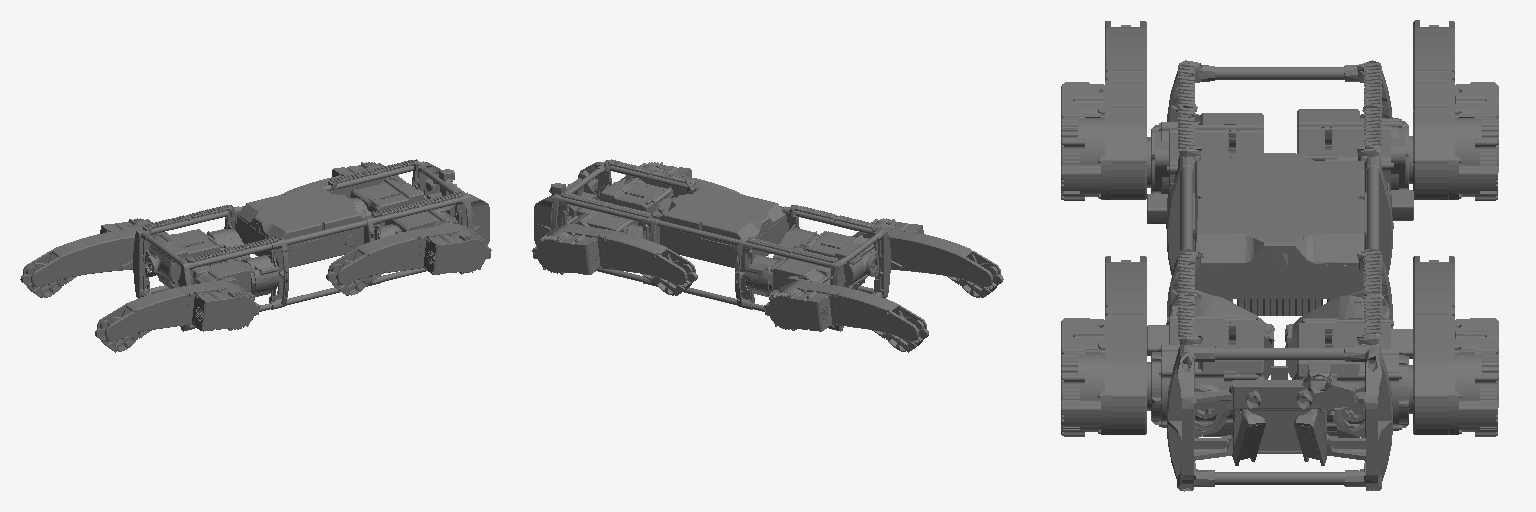
--- Render facts (derived) ---
The picture shows the robot from 3 angles, left to right: view 1: azimuth 30°, elevation 25°; view 2: azimuth 150°, elevation 25°; view 3: azimuth 270°, elevation 25°; orthographic projection.
Robot: vision60 — 31 links, 30 joints (12 revolute, 18 fixed); root link body; default pose: every joint at zero.
Links seen in each view (by area): view 1: body, upper2, upper3, upper1, hip1, hip0, hip3, upper0, hip2, lower1, lower2, lower3; view 2: body, upper0, upper1, upper3, hip3, hip2, hip1, hip0, upper2, lower0, lower3, lower1; view 3: body, upper3, upper2, upper0, upper1, hip2, hip1, hip0, hip3.
Link boxes in pixels (x1,y1,x2,y2): body: [133, 159, 489, 331]; upper2: [328, 224, 491, 284]; upper3: [97, 280, 259, 341]; upper1: [23, 218, 168, 286]; hip1: [148, 229, 219, 288]; hip0: [350, 179, 424, 226]; hip3: [178, 258, 255, 300]; upper0: [281, 162, 405, 197]; hip2: [385, 198, 457, 231]; lower1: [20, 266, 76, 297]; lower2: [326, 264, 383, 295]; lower3: [95, 320, 151, 352]; body: [534, 159, 890, 331]; upper0: [532, 224, 695, 284]; upper1: [764, 280, 926, 341]; upper3: [853, 218, 1000, 286]; hip3: [804, 231, 875, 288]; hip2: [599, 177, 673, 226]; hip1: [768, 258, 845, 299]; hip0: [566, 208, 637, 231]; upper2: [618, 162, 742, 197]; lower0: [640, 264, 697, 295]; lower3: [947, 266, 1003, 297]; lower1: [872, 320, 928, 352]; body: [1166, 60, 1392, 491]; upper3: [1061, 21, 1150, 200]; upper2: [1061, 256, 1146, 436]; upper0: [1413, 256, 1498, 436]; upper1: [1413, 20, 1498, 200]; hip2: [1147, 315, 1263, 436]; hip1: [1297, 109, 1413, 228]; hip0: [1297, 318, 1412, 437]; hip3: [1147, 113, 1263, 223].
Size in the robot's own frame: 1.21 by 0.5398 by 0.2047 metres.
13 mesh visuals loaded from 6 distinct referenced files (6 binary STL).

URDF robot description (vision60):
<?xml version="1.0" encoding="utf-8"?>
<!-- =================================================================================== -->
<!-- |    This document was autogenerated by xacro from vision60_gazebo.urdf.xacro     | -->
<!-- |    EDITING THIS FILE BY HAND IS NOT RECOMMENDED                                 | -->
<!-- =================================================================================== -->
<robot name="vision60">
  <!-- Define materials -->
  <material name="gray">
    <color rgba="0.5 0.5 0.5 1.0"/>
  </material>
  <material name="darkgray">
    <color rgba="0.3 0.3 0.3 1.0"/>
  </material>
  <material name="blue">
    <color rgba="0 0 0.8 1"/>
  </material>
  <material name="black">
    <color rgba="0 0 0 1"/>
  </material>
  <material name="purple">
    <color rgba="0.5 0.0 0.5 1.0"/>
  </material>
  <material name="red">
    <color rgba="0.8 0.0 0.2 1.0"/>
  </material>
  <!-- Body -->
  <link name="body">
    <visual>
      <origin rpy="0 0 0" xyz="0 0 -0.1"/>
      <geometry>
        <mesh filename="package://ghost_description/meshes/Vision60_V3/Frame.STL" scale="1 1 1"/>
      </geometry>
      <material name="gray"/>
    </visual>
    <inertial>
      <mass value="17.9"/>
      <inertia ixx="0.0986" ixy="0" ixz="0" iyy="0.8105" iyz="0" izz="0.8369"/>
    </inertial>
    <!-- Just copy geometry for collision -->
    <collision>
      <origin rpy="0 0 0" xyz="0 0 0"/>
      <geometry>
        <box size="0.83 0.25 0.19"/>
      </geometry>
    </collision>
  </link>
  <gazebo reference="body">
    <material>Gazebo/DarkGray</material>
  </gazebo>
  <!-- Traking frame comes from the realsesne _pose_frame which will share the link with realsense_link
                    (parent) d435i_link -> front_sensor_head -> extrinsics_offset_link -> body (childeren) -->
  <!-- Define front sensor head-->
  <link name="front_sensor_head_link"/>
  <!--zed center -->
  <link name="d435i_link"/>
  <link name="d435i_optical_link"/>
  <joint name="fwd_camera_link_to_zed_center" type="fixed">
    <parent link="front_sensor_head_link"/>
    <child link="d435i_link"/>
    <origin rpy="0 0 0" xyz="-0.031 0.0 0.0456"/>
    <axis xyz="1 0 0"/>
  </joint>
  <joint name="pre_opt_to_d435i_link" type="fixed">
    <parent link="d435i_link"/>
    <child link="d435i_optical_link"/>
    <origin rpy="-1.5707963267948966 0 -1.5707963267948966" xyz="0 0 0"/>
    <axis xyz="1 0 0"/>
  </joint>
  <!--forward left tof  link-->
  <link name="left_tof_optical_link"/>
  <link name="left_tof_link"/>
  <joint name="front_sensor_head_to_left_tof_link" type="fixed">
    <parent link="front_sensor_head_link"/>
    <child link="left_tof_link"/>
    <origin rpy="0 0.5235 -0.349" xyz="0.01493 0.033445  -0.00212"/>
    <axis xyz="1 0 0"/>
  </joint>
  <joint name="pre_opt_to_left_tof_link" type="fixed">
    <parent link="left_tof_link"/>
    <child link="left_tof_optical_link"/>
    <origin rpy="-1.5707963267948966 0 -1.5707963267948966" xyz="0 0 0"/>
    <axis xyz="1 0 0"/>
  </joint>
  <!--forward right tof link-->
  <link name="right_tof_link"/>
  <joint name="fwd_left_tof_link_to_right_tof_link" type="fixed">
    <parent link="front_sensor_head_link"/>
    <child link="right_tof_link"/>
    <!--<origin rpy="-0.34 0.5735 -0.13" xyz="0.01961 0.01132 0.06242"/>-->
    <!--            <origin rpy="-0.418 0.557 -0.123" xyz="0.017 0.012 0.067"/>-->
    <origin rpy="0 0.5235 0.349" xyz="0.01493 -0.033445  -0.00212"/>
    <axis xyz="0 0 1"/>
  </joint>
  <link name="right_tof_optical_link"/>
  <joint name="pre_opt_to_right_tof_link" type="fixed">
    <parent link="right_tof_link"/>
    <child link="right_tof_optical_link"/>
    <origin rpy="-1.5707963267948966 0 -1.5707963267948966" xyz="0 0 0"/>
    <axis xyz="1 0 0"/>
  </joint>
  <!--  Need to connect body to sensorhead  -->
  <joint name="body_to_sensorhead" type="fixed">
    <parent link="body"/>
    <child link="front_sensor_head_link"/>
    <origin rpy="0 0 0" xyz="0.485 0.0 0.0"/>
    <axis xyz="1 0 0"/>
  </joint>
  <!--    Side Right_tof    -->
  <link name="s_right_tof_link"/>
  <link name="s_right_tof_optical_link"/>
  <joint name="body_to_s_right_tof" type="fixed">
    <parent link="body"/>
    <child link="s_right_tof_link"/>
    <origin rpy="3.1415 0.524 -1.57" xyz="-0.082 -0.119 0.061"/>
    <axis xyz="1 0 0"/>
  </joint>
  <joint name="s_right_tof_to_optical_link" type="fixed">
    <parent link="s_right_tof_link"/>
    <child link="s_right_tof_optical_link"/>
    <origin rpy="-1.5707963267948966 0 -1.5707963267948966" xyz="0 0 0"/>
    <axis xyz="1 0 0"/>
  </joint>
  <!--    Side Left_tof    -->
  <link name="s_left_tof_link"/>
  <link name="s_left_tof_optical_link"/>
  <joint name="body_to_s_left_tof" type="fixed">
    <parent link="body"/>
    <child link="s_left_tof_link"/>
    <origin rpy="0 0.524 1.57" xyz="-0.082 0.119 0.061"/>
    <axis xyz="1 0 0"/>
  </joint>
  <joint name="s_left_tof_to_optical_link" type="fixed">
    <parent link="s_left_tof_link"/>
    <child link="s_left_tof_optical_link"/>
    <origin rpy="-1.5707963267948966 0 -1.5707963267948966" xyz="0 0 0"/>
    <axis xyz="1 0 0"/>
  </joint>
  <!--    Rear_tof    -->
  <link name="rear_tof_link"/>
  <link name="rear_tof_optical_link"/>
  <joint name="body_to_rear_tof" type="fixed">
    <parent link="body"/>
    <child link="rear_tof_link"/>
    <origin rpy="0 0.524 3.14" xyz="-0.485 0.0 0.0"/>
    <axis xyz="1 0 0"/>
  </joint>
  <joint name="rear_tof_to_optical_link" type="fixed">
    <parent link="rear_tof_link"/>
    <child link="rear_tof_optical_link"/>
    <origin rpy="-1.5707963267948966 0 -1.5707963267948966" xyz="0 0 0"/>
    <axis xyz="1 0 0"/>
  </joint>
  <!-- this way planner can run unchanged-->
  <link name="t265_pose_frame"/>
  <joint name="body_to_t265" type="fixed">
    <parent link="body"/>
    <child link="t265_pose_frame"/>
    <origin rpy="0 0 0" xyz="0.0 0.0 0.0"/>
    <axis xyz="1 0 0"/>
  </joint>
  <!--    GPS Sensor    -->
  <gazebo>
    <plugin filename="libhector_gazebo_ros_gps.so" name="gps_controller">
      <updateRate>5</updateRate>
      <robotNamespace>/</robotNamespace>
      <bodyName>body</bodyName>
      <frameId>gps_link</frameId>
      <topicName>navsat/fix</topicName>
      <velocityTopicName>navsat/vel</velocityTopicName>
      <referenceLatitude>49.9</referenceLatitude>
      <referenceLongitude>8.9</referenceLongitude>
      <referenceHeading>0</referenceHeading>
      <referenceAltitude>0</referenceAltitude>
      <drift>0.0001 0.0001 0.0001</drift>
    </plugin>
  </gazebo>
  <!--    Magnetometer    -->
  <gazebo>
    <plugin filename="libhector_gazebo_ros_magnetic.so" name="gps_controller">
      <updateRate>5</updateRate>
      <robotNamespace>/</robotNamespace>
      <bodyName>body</bodyName>
      <magnitude>1.0</magnitude>
      <declination>0.0</declination>
      <inclination>60.0</inclination>
      <topicName>magnet/fix</topicName>
      <referenceHeading>0</referenceHeading>
      <drift>0.0001 0.0001 0.0001</drift>
    </plugin>
  </gazebo>
  <!--    IMU Sensor    -->
  <gazebo reference="body">
    <gravity>true</gravity>
    <sensor name="imu_sensor" type="imu">
      <always_on>true</always_on>
      <visualize>true</visualize>
      <plugin filename="libgazebo_ros_imu_sensor.so" name="imu_plugin">
        <robotNamespace>/</robotNamespace>
        <topicName>imu</topicName>
        <bodyName>body</bodyName>
        <updateRateHZ>500.0</updateRateHZ>
        <gaussianNoise>0.0</gaussianNoise>
        <xyzOffset>0 0 0</xyzOffset>
        <rpyOffset>0 0 0</rpyOffset>
        <frameName>body</frameName>
        <initialOrientationAsReference>true</initialOrientationAsReference>
      </plugin>
      <pose>0 0 0 0 0 0</pose>
    </sensor>
  </gazebo>
  <!--    Front SensorHead Stereo    -->
  <gazebo reference="d435i_link">
    <sensor name="front_depth" type="depth">
      <update_rate>30</update_rate>
      <camera>
        <horizontal_fov>1.1</horizontal_fov>
        <image>
          <width>640</width>
          <height>480</height>
          <format>B8G8R8</format>
        </image>
        <clip>
          <near>0.01</near>
          <far>2.5</far>
        </clip>
      </camera>
      <plugin filename="libgazebo_ros_openni_kinect.so" name="front_depth_controller">
        <baseline>0.2</baseline>
        <alwaysOn>true</alwaysOn>
        <updateRate>30</updateRate>
        <cameraName>d435i</cameraName>
        <robotNamespace>/</robotNamespace>
        <imageTopicName>d435i/color/image_raw</imageTopicName>
        <cameraInfoTopicName>d435i/color/camera_info</cameraInfoTopicName>
        <depthImageTopicName>d435i/depth/image_rect_raw</depthImageTopicName>
        <depthImageCameraInfoTopicName>d435i/depth/camera_info
                    </depthImageCameraInfoTopicName>
        <pointCloudTopicName>d435i/depth/points</pointCloudTopicName>
        <frameName>d435i_optical_link</frameName>
        <pointCloudCutoff>0.01</pointCloudCutoff>
        <pointCloudCutoffMax>2.5</pointCloudCutoffMax>
        <distortionK1>0.00000001</distortionK1>
        <distortionK2>0.00000001</distortionK2>
        <distortionK3>0.00000001</distortionK3>
        <distortionT1>0.00000001</distortionT1>
        <distortionT2>0.00000001</distortionT2>
        <CxPrime>0</CxPrime>
        <Cx>0</Cx>
        <Cy>0</Cy>
        <focalLength>0</focalLength>
        <hackBaseline>0</hackBaseline>
      </plugin>
    </sensor>
  </gazebo>
  <gazebo reference="left_tof_link">
    <sensor name="left_tof" type="depth">
      <update_rate>15</update_rate>
      <camera>
        <horizontal_fov>1.08</horizontal_fov>
        <image>
          <width>224</width>
          <height>117</height>
          <format>R8G8B8</format>
        </image>
        <clip>
          <near>0.25</near>
          <far>2.0</far>
        </clip>
      </camera>
      <plugin filename="libgazebo_ros_openni_kinect.so" name="left_tof_controller">
        <baseline>0.2</baseline>
        <alwaysOn>true</alwaysOn>
        <updateRate>15</updateRate>
        <cameraName>left_tof</cameraName>
        <robotNamespace>/</robotNamespace>
        <imageTopicName>left_tof/stream/1/color/image_rect_raw</imageTopicName>
        <cameraInfoTopicName>left_tof/stream/1/color/camera_info</cameraInfoTopicName>
        <depthImageTopicName>left_tof/stream/1/depth/image_rect_raw
                    </depthImageTopicName>
        <depthImageCameraInfoTopicName>left_tof/stream/1/depth/camera_info
                    </depthImageCameraInfoTopicName>
        <pointCloudTopicName>left_tof/stream/1/cloud</pointCloudTopicName>
        <frameName>left_tof_optical_link</frameName>
        <pointCloudCutoff>0.25</pointCloudCutoff>
        <pointCloudCutoffMax>2.0</pointCloudCutoffMax>
        <distortionK1>0.00000001</distortionK1>
        <distortionK2>0.00000001</distortionK2>
        <distortionK3>0.00000001</distortionK3>
        <distortionT1>0.00000001</distortionT1>
        <distortionT2>0.00000001</distortionT2>
        <CxPrime>0</CxPrime>
        <Cx>0</Cx>
        <Cy>0</Cy>
        <focalLength>0</focalLength>
        <hackBaseline>0</hackBaseline>
      </plugin>
    </sensor>
  </gazebo>
  <gazebo reference="right_tof_link">
    <sensor name="right_tof" type="depth">
      <update_rate>15</update_rate>
      <camera>
        <horizontal_fov>1.08</horizontal_fov>
        <image>
          <width>224</width>
          <height>117</height>
          <format>R8G8B8</format>
        </image>
        <clip>
          <near>0.25</near>
          <far>2.0</far>
        </clip>
      </camera>
      <plugin filename="libgazebo_ros_openni_kinect.so" name="right_tof_controller">
        <baseline>0.2</baseline>
        <alwaysOn>true</alwaysOn>
        <updateRate>15</updateRate>
        <cameraName>right_tof</cameraName>
        <robotNamespace>/</robotNamespace>
        <imageTopicName>right_tof/stream/1/color/image_rect_raw</imageTopicName>
        <cameraInfoTopicName>right_tof/stream/1/color/camera_info</cameraInfoTopicName>
        <depthImageTopicName>right_tof/stream/1/depth/image_rect_raw
                    </depthImageTopicName>
        <depthImageCameraInfoTopicName>right_tof/stream/1/depth/camera_info
                    </depthImageCameraInfoTopicName>
        <pointCloudTopicName>right_tof/stream/1/cloud</pointCloudTopicName>
        <frameName>right_tof_optical_link</frameName>
        <pointCloudCutoff>0.25</pointCloudCutoff>
        <pointCloudCutoffMax>2.0</pointCloudCutoffMax>
        <distortionK1>0.00000001</distortionK1>
        <distortionK2>0.00000001</distortionK2>
        <distortionK3>0.00000001</distortionK3>
        <distortionT1>0.00000001</distortionT1>
        <distortionT2>0.00000001</distortionT2>
        <CxPrime>0</CxPrime>
        <Cx>0</Cx>
        <Cy>0</Cy>
        <focalLength>0</focalLength>
        <hackBaseline>0</hackBaseline>
      </plugin>
    </sensor>
  </gazebo>
  <gazebo reference="s_right_tof_link">
    <sensor name="s_right_tof" type="depth">
      <update_rate>15</update_rate>
      <camera>
        <horizontal_fov>1.08</horizontal_fov>
        <image>
          <width>224</width>
          <height>117</height>
          <format>R8G8B8</format>
        </image>
        <clip>
          <near>0.25</near>
          <far>2.0</far>
        </clip>
      </camera>
      <plugin filename="libgazebo_ros_openni_kinect.so" name="s_right_tof_controller">
        <baseline>0.2</baseline>
        <alwaysOn>true</alwaysOn>
        <updateRate>15</updateRate>
        <cameraName>s_right_tof</cameraName>
        <robotNamespace>/</robotNamespace>
        <imageTopicName>s_right_tof/stream/1/color/image_rect_raw</imageTopicName>
        <cameraInfoTopicName>s_right_tof/stream/1/color/camera_info</cameraInfoTopicName>
        <depthImageTopicName>s_right_tof/stream/1/depth/image_rect_raw
                    </depthImageTopicName>
        <depthImageCameraInfoTopicName>s_right_tof/stream/1/depth/camera_info
                    </depthImageCameraInfoTopicName>
        <pointCloudTopicName>s_right_tof/stream/1/cloud</pointCloudTopicName>
        <frameName>s_right_tof_optical_link</frameName>
        <pointCloudCutoff>0.25</pointCloudCutoff>
        <pointCloudCutoffMax>2.0</pointCloudCutoffMax>
        <distortionK1>0.00000001</distortionK1>
        <distortionK2>0.00000001</distortionK2>
        <distortionK3>0.00000001</distortionK3>
        <distortionT1>0.00000001</distortionT1>
        <distortionT2>0.00000001</distortionT2>
        <CxPrime>0</CxPrime>
        <Cx>0</Cx>
        <Cy>0</Cy>
        <focalLength>0</focalLength>
        <hackBaseline>0</hackBaseline>
      </plugin>
    </sensor>
  </gazebo>
  <gazebo reference="s_left_tof_link">
    <sensor name="s_left_tof" type="depth">
      <update_rate>15</update_rate>
      <camera>
        <horizontal_fov>1.08</horizontal_fov>
        <image>
          <width>224</width>
          <height>117</height>
          <format>R8G8B8</format>
        </image>
        <clip>
          <near>0.25</near>
          <far>2.0</far>
        </clip>
      </camera>
      <plugin filename="libgazebo_ros_openni_kinect.so" name="s_left_tof_controller">
        <baseline>0.2</baseline>
        <alwaysOn>true</alwaysOn>
        <updateRate>15</updateRate>
        <cameraName>s_left_tof</cameraName>
        <robotNamespace>/</robotNamespace>
        <imageTopicName>s_left_tof/stream/1/color/image_rect_raw</imageTopicName>
        <cameraInfoTopicName>s_left_tof/stream/1/color/camera_info</cameraInfoTopicName>
        <depthImageTopicName>s_left_tof/stream/1/depth/image_rect_raw
                    </depthImageTopicName>
        <depthImageCameraInfoTopicName>s_left_tof/stream/1/depth/camera_info
                    </depthImageCameraInfoTopicName>
        <pointCloudTopicName>s_left_tof/stream/1/cloud</pointCloudTopicName>
        <frameName>s_left_tof_optical_link</frameName>
        <pointCloudCutoff>0.25</pointCloudCutoff>
        <pointCloudCutoffMax>2.0</pointCloudCutoffMax>
        <distortionK1>0.00000001</distortionK1>
        <distortionK2>0.00000001</distortionK2>
        <distortionK3>0.00000001</distortionK3>
        <distortionT1>0.00000001</distortionT1>
        <distortionT2>0.00000001</distortionT2>
        <CxPrime>0</CxPrime>
        <Cx>0</Cx>
        <Cy>0</Cy>
        <focalLength>0</focalLength>
        <hackBaseline>0</hackBaseline>
      </plugin>
    </sensor>
  </gazebo>
  <gazebo reference="rear_tof_link">
    <sensor name="rear_tof" type="depth">
      <update_rate>15</update_rate>
      <camera>
        <horizontal_fov>1.08</horizontal_fov>
        <image>
          <width>224</width>
          <height>117</height>
          <format>R8G8B8</format>
        </image>
        <clip>
          <near>0.25</near>
          <far>2.0</far>
        </clip>
      </camera>
      <plugin filename="libgazebo_ros_openni_kinect.so" name="rear_tof_controller">
        <baseline>0.2</baseline>
        <alwaysOn>true</alwaysOn>
        <updateRate>15</updateRate>
        <cameraName>rear_tof</cameraName>
        <robotNamespace>/</robotNamespace>
        <imageTopicName>rear_tof/stream/1/color/image_rect_raw</imageTopicName>
        <cameraInfoTopicName>rear_tof/stream/1/color/camera_info</cameraInfoTopicName>
        <depthImageTopicName>rear_tof/stream/1/depth/image_rect_raw
                    </depthImageTopicName>
        <depthImageCameraInfoTopicName>rear_tof/stream/1/depth/camera_info
                    </depthImageCameraInfoTopicName>
        <pointCloudTopicName>rear_tof/stream/1/cloud</pointCloudTopicName>
        <frameName>rear_tof_optical_link</frameName>
        <pointCloudCutoff>0.25</pointCloudCutoff>
        <pointCloudCutoffMax>2.0</pointCloudCutoffMax>
        <distortionK1>0.00000001</distortionK1>
        <distortionK2>0.00000001</distortionK2>
        <distortionK3>0.00000001</distortionK3>
        <distortionT1>0.00000001</distortionT1>
        <distortionT2>0.00000001</distortionT2>
        <CxPrime>0</CxPrime>
        <Cx>0</Cx>
        <Cy>0</Cy>
        <focalLength>0</focalLength>
        <hackBaseline>0</hackBaseline>
      </plugin>
    </sensor>
  </gazebo>
  <!-- Hip motor -->
  <link name="hip0">
    <visual>
      <origin rpy="0 -3.14159265359 0" xyz="0.05 -0.073 0"/>
      <geometry>
        <mesh filename="package://ghost_description/meshes/Vision60_V3/Hip_Pod_Assembly.stl" scale="1 1 1"/>
      </geometry>
      <material name="gray"/>
    </visual>
    <collision>
      <origin rpy="1.5707963268 0 0" xyz="-0.01 -0.005 0"/>
      <geometry>
        <box size="0.15 0.09 0.15"/>
      </geometry>
    </collision>
    <inertial>
      <mass value="1.975"/>
      <inertia ixx="0.00891458" ixy="0" ixz="0" iyy="0.0100573" iyz="0" izz="0.01533698"/>
    </inertial>
  </link>
  <gazebo reference="hip0">
    <material>Gazebo/DarkGray</material>
  </gazebo>
  <!-- Abduction joint. Joint names are: 8 9 10 11 -->
  <joint name="8" type="revolute">
    <parent link="body"/>
    <child link="hip0"/>
    <axis xyz="1 0 0"/>
    <origin xyz="0.34385 0.092865 0"/>
    <limit effort="375" lower="-0.43" upper="0.43" velocity="8.6"/>
    <dynamics damping="0.0" friction="0.0"/>
  </joint>
  <!-- Transmission elements required for Gazebo -->
  <transmission name="transmission_8">
    <type>transmission_interface/SimpleTransmission</type>
    <joint name="8">
      <hardwareInterface>hardware_interface/EffortJointInterface</hardwareInterface>
    </joint>
    <actuator name="motor_8">
      <hardwareInterface>EffortJointInterface</hardwareInterface>
      <mechanicalReduction>1</mechanicalReduction>
    </actuator>
  </transmission>
  <!-- Upper leg -->
  <link name="upper0">
    <visual>
      <origin rpy="3.14 0.1179843 0" xyz="0 0 0"/>
      <geometry>
        <mesh filename="package://ghost_description/meshes/Vision60_V3/Leg_Assembly.stl" scale="0.001 0.001 0.001"/>
      </geometry>
      <material name="gray"/>
    </visual>
    <collision>
      <origin rpy="0 0 0" xyz="-0.17 0.0 0"/>
      <geometry>
        <box size="0.34 0.055 0.075"/>
      </geometry>
    </collision>
    <inertial>
      <mass value="2.525"/>
      <inertia ixx="0.0003125" ixy="0" ixz="0" iyy="0.0040625" iyz="0" izz="0.0040625"/>
    </inertial>
  </link>
  <gazebo reference="upper0">
    <material>Gazebo/DarkGray</material>
  </gazebo>
  <!-- Hip joint. (Motor to upper leg). Joint names are: 0 2 4 6 -->
  <joint name="0" type="revolute">
    <parent link="hip0"/>
    <child link="upper0"/>
    <axis xyz="0 -1 0"/>
    <origin xyz="0 0.0975 0"/>
    <!--  rpy="0 -0.3 0" -->
    <limit effort="87.5" lower="-6.28318530718" upper="6.28318530718" velocity="30"/>
    <dynamics damping="0.0" friction="0.0"/>
  </joint>
  <!-- Transmission elements required for Gazebo -->
  <transmission name="transmission_0">
    <type>transmission_interface/SimpleTransmission</type>
    <joint name="0">
      <hardwareInterface>hardware_interface/EffortJointInterface</hardwareInterface>
    </joint>
    <actuator name="motor_0">
      <hardwareInterface>EffortJointInterface</hardwareInterface>
      <mechanicalReduction>1</mechanicalReduction>
    </actuator>
  </transmission>
  <!-- Lower leg -->
  <link name="lower0">
    <visual>
      <origin rpy="0 -0.3874631  0" xyz="0 0 0"/>
      <geometry>
        <mesh filename="package://ghost_description/meshes/Vision60_V3/Lower_Leg_Assembly.stl" scale="0.001 0.001 0.001"/>
      </geometry>
      <material name="gray"/>
    </visual>
    <collision>
      <origin rpy="0 1.5707963268 0" xyz="0.17035 0 0"/>
      <geometry>
        <cylinder length="0.3407" radius="0.02"/>
      </geometry>
    </collision>
    <inertial>
      <mass value="0.375"/>
      <inertia ixx="0.00131075" ixy="0" ixz="0" iyy="0.00131075" iyz="0" izz="0.0001"/>
    </inertial>
  </link>
  <gazebo reference="lower0">
    <material>Gazebo/DarkGray</material>
  </gazebo>
  <!-- Knee joint. Joint names are: 1 3 5 7 -->
  <joint name="1" type="revolute">
    <parent link="upper0"/>
    <child link="lower0"/>
    <axis xyz="0 1 0"/>
    <origin xyz="-0.34 0 0"/>
    <!--rpy="0 0.5 0"-->
    <limit effort="87.5" lower="0" upper="3.14159265359" velocity="30"/>
    <dynamics damping="0.0" friction="0.0"/>
  </joint>
  <!-- Transmission elements required for Gazebo -->
  <transmission name="transmission_1">
    <type>transmission_interface/SimpleTransmission</type>
    <joint name="1">
      <hardwareInterface>hardware_interface/EffortJointInterface</hardwareInterface>
    </joint>
    <actuator name="motor_1">
      <hardwareInterface>EffortJointInterface</hardwareInterface>
      <mechanicalReduction>1</mechanicalReduction>
    </actuator>
  </transmission>
  <!-- Toe -->
  <link name="toe0">
    <!--            <contact>-->
    <!--                <friction_anchor/>-->
    <!--                <stiffness value="${toeStiffness}"/>-->
    <!--                <damping value="${toeDamping}"/>-->
    <!--                <spinning_friction value="${toeSpinningFriction}"/>-->
    <!--                <lateral_friction value="${toeLateralFriction}"/>-->
    <!--            </contact>-->
    <visual>
      <origin rpy="0 0 0" xyz="0 0 0"/>
      <geometry>
        <!--                     <box size="${toeRadius}*2 ${toeRadius}*2 ${toeRadius}*2"/>-->
        <sphere radius="0.001"/>
        <!--                    <sphere radius="${toeRadius}"/>-->
      </geometry>
      <material name="darkgray"/>
    </visual>
    <collision>
      <origin rpy="0 0 0" xyz="0 0 0"/>
      <geometry>
        <!--                    <box size="${toeRadius}*2 ${toeRadius}*2 ${toeRadius}*2"/>-->
        <sphere radius="0.0325"/>
      </geometry>
      <surface>
        <friction>
          <torsional>
            <coefficient>100000.0</coefficient>
            <surface_radius>100000</surface_radius>
            <use_patch_radius>false</use_patch_radius>
          </torsional>
          <ode>
            <mu>10000</mu>
            <mu2>10000</mu2>
          </ode>
        </friction>
        <contact>
          <ode>
            <kp>300000.0</kp>
            <kd>10000.0</kd>
          </ode>
        </contact>
      </surface>
    </collision>
    <inertial>
      <mass value="0.15"/>
      <inertia ixx="0.000025" ixy="0" ixz="0" iyy="0.000025" iyz="0" izz="0.000025"/>
    </inertial>
  </link>
  <gazebo reference="toe0">
    <material>Gazebo/DarkGray</material>
    <collision>
      <surface>
        <bounce>
          <restitution_coefficient>0</restitution_coefficient>
          <threshold>1e+06</threshold>
        </bounce>
        <friction>
          <torsional>
            <coefficient>1.0</coefficient>
          </torsional>
          <ode>
            <mu>500.0</mu>
            <mu2>50000.0</mu2>
          </ode>
          <bullet>
            <rolling_friction>1.0</rolling_friction>
            <friction2>50000.0</friction2>
          </bullet>
        </friction>
        <contact>
          <bullet>
            <kp>300000.0</kp>
            <kd>10000.0</kd>
          </bullet>
          <ode>
            <kp>300000.0</kp>
            <kd>10000.0</kd>
          </ode>
        </contact>
      </surface>
    </collision>
  </gazebo>
  <joint name="jtoe0" type="fixed">
    <parent link="lower0"/>
    <child link="toe0"/>
    <origin xyz="0.3407 0 -0.0"/>
    <dynamics damping="0.0" friction="0.0"/>
  </joint>
  <!-- Hip motor -->
  <link name="hip1">
    <visual>
      <origin rpy="0 0 0" xyz="-0.05 -0.073 0"/>
      <geometry>
        <mesh filename="package://ghost_description/meshes/Vision60_V3/Hip_Pod_Assembly.stl" scale="1 1 1"/>
      </geometry>
      <material name="gray"/>
    </visual>
    <collision>
      <origin rpy="1.5707963268 0 0" xyz="0.01 -0.005 0"/>
      <geometry>
        <box size="0.15 0.09 0.15"/>
      </geometry>
    </collision>
    <inertial>
      <mass value="1.975"/>
      <inertia ixx="0.00891458" ixy="0" ixz="0" iyy="0.0100573" iyz="0" izz="0.01533698"/>
    </inertial>
  </link>
  <gazebo reference="hip1">
    <material>Gazebo/DarkGray</material>
  </gazebo>
  <!-- Abduction joint. Joint names are: 8 9 10 11 -->
  <joint name="9" type="revolute">
    <parent link="body"/>
    <child link="hip1"/>
    <axis xyz="1 0 0"/>
    <origin xyz="-0.34385 0.092865 0"/>
    <limit effort="375" lower="-0.43" upper="0.43" velocity="8.6"/>
    <dynamics damping="0.0" friction="0.0"/>
  </joint>
  <!-- Transmission elements required for Gazebo -->
  <transmission name="transmission_9">
    <type>transmission_interface/SimpleTransmission</type>
    <joint name="9">
      <hardwareInterface>hardware_interface/EffortJointInterface</hardwareInterface>
    </joint>
    <actuator name="motor_9">
      <hardwareInterface>EffortJointInterface</hardwareInterface>
      <mechanicalReduction>1</mechanicalReduction>
    </actuator>
  </transmission>
  <!-- Upper leg -->
  <link name="upper1">
    <visual>
      <origin rpy="3.14 0.1179843 0" xyz="0 0 0"/>
      <geometry>
        <mesh filename="package://ghost_description/meshes/Vision60_V3/Leg_Assembly.stl" scale="0.001 0.001 0.001"/>
      </geometry>
      <material name="gray"/>
    </visual>
    <collision>
      <origin rpy="0 0 0" xyz="-0.17 0.0 0"/>
      <geometry>
        <box size="0.34 0.055 0.075"/>
      </geometry>
    </collision>
    <inertial>
      <mass value="2.525"/>
      <inertia ixx="0.0003125" ixy="0" ixz="0" iyy="0.0040625" iyz="0" izz="0.0040625"/>
    </inertial>
  </link>
  <gazebo reference="upper1">
    <material>Gazebo/DarkGray</material>
  </gazebo>
  <!-- Hip joint. (Motor to upper leg). Joint names are: 0 2 4 6 -->
  <joint name="2" type="revolute">
    <parent link="hip1"/>
    <child link="upper1"/>
    <axis xyz="0 -1 0"/>
    <origin xyz="0 0.0975 0"/>
    <!--  rpy="0 -0.3 0" -->
    <limit effort="87.5" lower="-6.28318530718" upper="6.28318530718" velocity="30"/>
    <dynamics damping="0.0" friction="0.0"/>
  </joint>
  <!-- Transmission elements required for Gazebo -->
  <transmission name="transmission_2">
    <type>transmission_interface/SimpleTransmission</type>
    <joint name="2">
      <hardwareInterface>hardware_interface/EffortJointInterface</hardwareInterface>
    </joint>
    <actuator name="motor_2">
      <hardwareInterface>EffortJointInterface</hardwareInterface>
      <mechanicalReduction>1</mechanicalReduction>
    </actuator>
  </transmission>
  <!-- Lower leg -->
  <link name="lower1">
    <visual>
      <origin rpy="0 -0.3874631  0" xyz="0 0 0"/>
      <geometry>
        <mesh filename="package://ghost_description/meshes/Vision60_V3/Lower_Leg_Assembly.stl" scale="0.001 0.001 0.001"/>
      </geometry>
      <material name="gray"/>
    </visual>
    <collision>
      <origin rpy="0 1.5707963268 0" xyz="0.17035 0 0"/>
      <geometry>
        <cylinder length="0.3407" radius="0.02"/>
      </geometry>
    </collision>
    <inertial>
      <mass value="0.375"/>
      <inertia ixx="0.00131075" ixy="0" ixz="0" iyy="0.00131075" iyz="0" izz="0.0001"/>
    </inertial>
  </link>
  <gazebo reference="lower1">
    <material>Gazebo/DarkGray</material>
  </gazebo>
  <!-- Knee joint. Joint names are: 1 3 5 7 -->
  <joint name="3" type="revolute">
    <parent link="upper1"/>
    <child link="lower1"/>
    <axis xyz="0 1 0"/>
    <origin xyz="-0.34 0 0"/>
    <!--rpy="0 0.5 0"-->
    <limit effort="87.5" lower="0" upper="3.14159265359" velocity="30"/>
    <dynamics damping="0.0" friction="0.0"/>
  </joint>
  <!-- Transmission elements required for Gazebo -->
  <transmission name="transmission_3">
    <type>transmission_interface/SimpleTransmission</type>
    <joint name="3">
      <hardwareInterface>hardware_interface/EffortJointInterface</hardwareInterface>
    </joint>
    <actuator name="motor_3">
      <hardwareInterface>EffortJointInterface</hardwareInterface>
      <mechanicalReduction>1</mechanicalReduction>
    </actuator>
  </transmission>
  <!-- Toe -->
  <link name="toe1">
    <!--            <contact>-->
    <!--                <friction_anchor/>-->
    <!--                <stiffness value="${toeStiffness}"/>-->
    <!--                <damping value="${toeDamping}"/>-->
    <!--                <spinning_friction value="${toeSpinningFriction}"/>-->
    <!--                <lateral_friction value="${toeLateralFriction}"/>-->
    <!--            </contact>-->
    <visual>
      <origin rpy="0 0 0" xyz="0 0 0"/>
      <geometry>
        <!--                     <box size="${toeRadius}*2 ${toeRadius}*2 ${toeRadius}*2"/>-->
        <sphere radius="0.001"/>
        <!--                    <sphere radius="${toeRadius}"/>-->
      </geometry>
      <material name="darkgray"/>
    </visual>
    <collision>
      <origin rpy="0 0 0" xyz="0 0 0"/>
      <geometry>
        <!--                    <box size="${toeRadius}*2 ${toeRadius}*2 ${toeRadius}*2"/>-->
        <sphere radius="0.0325"/>
      </geometry>
      <surface>
        <friction>
          <torsional>
            <coefficient>100000.0</coefficient>
            <surface_radius>100000</surface_radius>
            <use_patch_radius>false</use_patch_radius>
          </torsional>
          <ode>
            <mu>10000</mu>
            <mu2>10000</mu2>
          </ode>
        </friction>
        <contact>
          <ode>
            <kp>300000.0</kp>
            <kd>10000.0</kd>
          </ode>
        </contact>
      </surface>
    </collision>
    <inertial>
      <mass value="0.15"/>
      <inertia ixx="0.000025" ixy="0" ixz="0" iyy="0.000025" iyz="0" izz="0.000025"/>
    </inertial>
  </link>
  <gazebo reference="toe1">
    <material>Gazebo/DarkGray</material>
    <collision>
      <surface>
        <bounce>
          <restitution_coefficient>0</restitution_coefficient>
          <threshold>1e+06</threshold>
        </bounce>
        <friction>
          <torsional>
            <coefficient>1.0</coefficient>
          </torsional>
          <ode>
            <mu>500.0</mu>
            <mu2>50000.0</mu2>
          </ode>
          <bullet>
            <rolling_friction>1.0</rolling_friction>
            <friction2>50000.0</friction2>
          </bullet>
        </friction>
        <contact>
          <bullet>
            <kp>300000.0</kp>
            <kd>10000.0</kd>
          </bullet>
          <ode>
            <kp>300000.0</kp>
            <kd>10000.0</kd>
          </ode>
        </contact>
      </surface>
    </collision>
  </gazebo>
  <joint name="jtoe1" type="fixed">
    <parent link="lower1"/>
    <child link="toe1"/>
    <origin xyz="0.3407 0 -0.0"/>
    <dynamics damping="0.0" friction="0.0"/>
  </joint>
  <!-- Hip motor -->
  <link name="hip2">
    <visual>
      <origin rpy="3.14159265359 3.14159265359 0" xyz="0.05 0 -0.05"/>
      <geometry>
        <mesh filename="package://ghost_description/meshes/Vision60_V3/Hip_Pod_Assembly_Mirrored.stl" scale="1 1 1"/>
      </geometry>
      <material name="gray"/>
    </visual>
    <collision>
      <origin rpy="1.5707963268 0 0" xyz="-0.01 0.005 0"/>
      <geometry>
        <box size="0.15 0.09 0.15"/>
      </geometry>
    </collision>
    <inertial>
      <mass value="1.975"/>
      <inertia ixx="0.00891458" ixy="0" ixz="0" iyy="0.0100573" iyz="0" izz="0.01533698"/>
    </inertial>
  </link>
  <gazebo reference="hip2">
    <material>Gazebo/DarkGray</material>
  </gazebo>
  <!-- Abduction joint. Joint names are: 8 9 10 11 -->
  <joint name="10" type="revolute">
    <parent link="body"/>
    <child link="hip2"/>
    <axis xyz="1 0 0"/>
    <origin xyz="0.34385 -0.092865 0"/>
    <limit effort="375" lower="-0.43" upper="0.43" velocity="8.6"/>
    <dynamics damping="0.0" friction="0.0"/>
  </joint>
  <!-- Transmission elements required for Gazebo -->
  <transmission name="transmission_10">
    <type>transmission_interface/SimpleTransmission</type>
    <joint name="10">
      <hardwareInterface>hardware_interface/EffortJointInterface</hardwareInterface>
    </joint>
    <actuator name="motor_10">
      <hardwareInterface>EffortJointInterface</hardwareInterface>
      <mechanicalReduction>1</mechanicalReduction>
    </actuator>
  </transmission>
  <!-- Upper leg -->
  <link name="upper2">
    <visual>
      <!-- Right-->
      <origin rpy="0 0.1179843 0" xyz="0 0 0"/>
      <geometry>
        <mesh filename="package://ghost_description/meshes/Vision60_V3/Leg_Assembly_Mirrored.stl" scale="0.001 0.001 0.001"/>
      </geometry>
      <material name="gray"/>
    </visual>
    <collision>
      <origin rpy="0 0 0" xyz="-0.17 -0.0 0"/>
      <geometry>
        <box size="0.34 0.055 0.075"/>
      </geometry>
    </collision>
    <inertial>
      <mass value="2.525"/>
      <inertia ixx="0.0003125" ixy="0" ixz="0" iyy="0.0040625" iyz="0" izz="0.0040625"/>
    </inertial>
  </link>
  <gazebo reference="upper2">
    <material>Gazebo/DarkGray</material>
  </gazebo>
  <!-- Hip joint. (Motor to upper leg). Joint names are: 0 2 4 6 -->
  <joint name="4" type="revolute">
    <parent link="hip2"/>
    <child link="upper2"/>
    <axis xyz="0 -1 0"/>
    <origin xyz="0 -0.0975 0"/>
    <!--  rpy="0 -0.3 0" -->
    <limit effort="87.5" lower="-6.28318530718" upper="6.28318530718" velocity="30"/>
    <dynamics damping="0.0" friction="0.0"/>
  </joint>
  <!-- Transmission elements required for Gazebo -->
  <transmission name="transmission_4">
    <type>transmission_interface/SimpleTransmission</type>
    <joint name="4">
      <hardwareInterface>hardware_interface/EffortJointInterface</hardwareInterface>
    </joint>
    <actuator name="motor_4">
      <hardwareInterface>EffortJointInterface</hardwareInterface>
      <mechanicalReduction>1</mechanicalReduction>
    </actuator>
  </transmission>
  <!-- Lower leg -->
  <link name="lower2">
    <visual>
      <origin rpy="0 -0.3874631  0" xyz="0 0 0"/>
      <geometry>
        <mesh filename="package://ghost_description/meshes/Vision60_V3/Lower_Leg_Assembly.stl" scale="0.001 0.001 0.001"/>
      </geometry>
      <material name="gray"/>
    </visual>
    <collision>
      <origin rpy="0 1.5707963268 0" xyz="0.17035 0 0"/>
      <geometry>
        <cylinder length="0.3407" radius="0.02"/>
      </geometry>
    </collision>
    <inertial>
      <mass value="0.375"/>
      <inertia ixx="0.00131075" ixy="0" ixz="0" iyy="0.00131075" iyz="0" izz="0.0001"/>
    </inertial>
  </link>
  <gazebo reference="lower2">
    <material>Gazebo/DarkGray</material>
  </gazebo>
  <!-- Knee joint. Joint names are: 1 3 5 7 -->
  <joint name="5" type="revolute">
    <parent link="upper2"/>
    <child link="lower2"/>
    <axis xyz="0 1 0"/>
    <origin xyz="-0.34 0 0"/>
    <!--rpy="0 0.5 0"-->
    <limit effort="87.5" lower="0" upper="3.14159265359" velocity="30"/>
    <dynamics damping="0.0" friction="0.0"/>
  </joint>
  <!-- Transmission elements required for Gazebo -->
  <transmission name="transmission_5">
    <type>transmission_interface/SimpleTransmission</type>
    <joint name="5">
      <hardwareInterface>hardware_interface/EffortJointInterface</hardwareInterface>
    </joint>
    <actuator name="motor_5">
      <hardwareInterface>EffortJointInterface</hardwareInterface>
      <mechanicalReduction>1</mechanicalReduction>
    </actuator>
  </transmission>
  <!-- Toe -->
  <link name="toe2">
    <!--            <contact>-->
    <!--                <friction_anchor/>-->
    <!--                <stiffness value="${toeStiffness}"/>-->
    <!--                <damping value="${toeDamping}"/>-->
    <!--                <spinning_friction value="${toeSpinningFriction}"/>-->
    <!--                <lateral_friction value="${toeLateralFriction}"/>-->
    <!--            </contact>-->
    <visual>
      <origin rpy="0 0 0" xyz="0 0 0"/>
      <geometry>
        <!--                     <box size="${toeRadius}*2 ${toeRadius}*2 ${toeRadius}*2"/>-->
        <sphere radius="0.001"/>
        <!--                    <sphere radius="${toeRadius}"/>-->
      </geometry>
      <material name="darkgray"/>
    </visual>
    <collision>
      <origin rpy="0 0 0" xyz="0 0 0"/>
      <geometry>
        <!--                    <box size="${toeRadius}*2 ${toeRadius}*2 ${toeRadius}*2"/>-->
        <sphere radius="0.0325"/>
      </geometry>
      <surface>
        <friction>
          <torsional>
            <coefficient>100000.0</coefficient>
            <surface_radius>100000</surface_radius>
            <use_patch_radius>false</use_patch_radius>
          </torsional>
          <ode>
            <mu>10000</mu>
            <mu2>10000</mu2>
          </ode>
        </friction>
        <contact>
          <ode>
            <kp>300000.0</kp>
            <kd>10000.0</kd>
          </ode>
        </contact>
      </surface>
    </collision>
    <inertial>
      <mass value="0.15"/>
      <inertia ixx="0.000025" ixy="0" ixz="0" iyy="0.000025" iyz="0" izz="0.000025"/>
    </inertial>
  </link>
  <gazebo reference="toe2">
    <material>Gazebo/DarkGray</material>
    <collision>
      <surface>
        <bounce>
          <restitution_coefficient>0</restitution_coefficient>
          <threshold>1e+06</threshold>
        </bounce>
        <friction>
          <torsional>
            <coefficient>1.0</coefficient>
          </torsional>
          <ode>
            <mu>500.0</mu>
            <mu2>50000.0</mu2>
          </ode>
          <bullet>
            <rolling_friction>1.0</rolling_friction>
            <friction2>50000.0</friction2>
          </bullet>
        </friction>
        <contact>
          <bullet>
            <kp>300000.0</kp>
            <kd>10000.0</kd>
          </bullet>
          <ode>
            <kp>300000.0</kp>
            <kd>10000.0</kd>
          </ode>
        </contact>
      </surface>
    </collision>
  </gazebo>
  <joint name="jtoe2" type="fixed">
    <parent link="lower2"/>
    <child link="toe2"/>
    <origin xyz="0.3407 0 -0.0"/>
    <dynamics damping="0.0" friction="0.0"/>
  </joint>
  <!-- Hip motor -->
  <link name="hip3">
    <visual>
      <origin rpy="3.14159265359 0 0" xyz="-0.05 0.0 0.05"/>
      <geometry>
        <mesh filename="package://ghost_description/meshes/Vision60_V3/Hip_Pod_Assembly_Mirrored.stl" scale="1 1 1"/>
      </geometry>
      <material name="gray"/>
    </visual>
    <collision>
      <origin rpy="1.5707963268 0 0" xyz="0.01 0.005 0"/>
      <geometry>
        <box size="0.15 0.09 0.15"/>
      </geometry>
    </collision>
    <inertial>
      <mass value="1.975"/>
      <inertia ixx="0.00891458" ixy="0" ixz="0" iyy="0.0100573" iyz="0" izz="0.01533698"/>
    </inertial>
  </link>
  <gazebo reference="hip3">
    <material>Gazebo/DarkGray</material>
  </gazebo>
  <!-- Abduction joint. Joint names are: 8 9 10 11 -->
  <joint name="11" type="revolute">
    <parent link="body"/>
    <child link="hip3"/>
    <axis xyz="1 0 0"/>
    <origin xyz="-0.34385 -0.092865 0"/>
    <limit effort="375" lower="-0.43" upper="0.43" velocity="8.6"/>
    <dynamics damping="0.0" friction="0.0"/>
  </joint>
  <!-- Transmission elements required for Gazebo -->
  <transmission name="transmission_11">
    <type>transmission_interface/SimpleTransmission</type>
    <joint name="11">
      <hardwareInterface>hardware_interface/EffortJointInterface</hardwareInterface>
    </joint>
    <actuator name="motor_11">
      <hardwareInterface>EffortJointInterface</hardwareInterface>
      <mechanicalReduction>1</mechanicalReduction>
    </actuator>
  </transmission>
  <!-- Upper leg -->
  <link name="upper3">
    <visual>
      <!-- Right-->
      <origin rpy="0 0.1179843 0" xyz="0 0 0"/>
      <geometry>
        <mesh filename="package://ghost_description/meshes/Vision60_V3/Leg_Assembly_Mirrored.stl" scale="0.001 0.001 0.001"/>
      </geometry>
      <material name="gray"/>
    </visual>
    <collision>
      <origin rpy="0 0 0" xyz="-0.17 -0.0 0"/>
      <geometry>
        <box size="0.34 0.055 0.075"/>
      </geometry>
    </collision>
    <inertial>
      <mass value="2.525"/>
      <inertia ixx="0.0003125" ixy="0" ixz="0" iyy="0.0040625" iyz="0" izz="0.0040625"/>
    </inertial>
  </link>
  <gazebo reference="upper3">
    <material>Gazebo/DarkGray</material>
  </gazebo>
  <!-- Hip joint. (Motor to upper leg). Joint names are: 0 2 4 6 -->
  <joint name="6" type="revolute">
    <parent link="hip3"/>
    <child link="upper3"/>
    <axis xyz="0 -1 0"/>
    <origin xyz="0 -0.0975 0"/>
    <!--  rpy="0 -0.3 0" -->
    <limit effort="87.5" lower="-6.28318530718" upper="6.28318530718" velocity="30"/>
    <dynamics damping="0.0" friction="0.0"/>
  </joint>
  <!-- Transmission elements required for Gazebo -->
  <transmission name="transmission_6">
    <type>transmission_interface/SimpleTransmission</type>
    <joint name="6">
      <hardwareInterface>hardware_interface/EffortJointInterface</hardwareInterface>
    </joint>
    <actuator name="motor_6">
      <hardwareInterface>EffortJointInterface</hardwareInterface>
      <mechanicalReduction>1</mechanicalReduction>
    </actuator>
  </transmission>
  <!-- Lower leg -->
  <link name="lower3">
    <visual>
      <origin rpy="0 -0.3874631  0" xyz="0 0 0"/>
      <geometry>
        <mesh filename="package://ghost_description/meshes/Vision60_V3/Lower_Leg_Assembly.stl" scale="0.001 0.001 0.001"/>
      </geometry>
      <material name="gray"/>
    </visual>
    <collision>
      <origin rpy="0 1.5707963268 0" xyz="0.17035 0 0"/>
      <geometry>
        <cylinder length="0.3407" radius="0.02"/>
      </geometry>
    </collision>
    <inertial>
      <mass value="0.375"/>
      <inertia ixx="0.00131075" ixy="0" ixz="0" iyy="0.00131075" iyz="0" izz="0.0001"/>
    </inertial>
  </link>
  <gazebo reference="lower3">
    <material>Gazebo/DarkGray</material>
  </gazebo>
  <!-- Knee joint. Joint names are: 1 3 5 7 -->
  <joint name="7" type="revolute">
    <parent link="upper3"/>
    <child link="lower3"/>
    <axis xyz="0 1 0"/>
    <origin xyz="-0.34 0 0"/>
    <!--rpy="0 0.5 0"-->
    <limit effort="87.5" lower="0" upper="3.14159265359" velocity="30"/>
    <dynamics damping="0.0" friction="0.0"/>
  </joint>
  <!-- Transmission elements required for Gazebo -->
  <transmission name="transmission_7">
    <type>transmission_interface/SimpleTransmission</type>
    <joint name="7">
      <hardwareInterface>hardware_interface/EffortJointInterface</hardwareInterface>
    </joint>
    <actuator name="motor_7">
      <hardwareInterface>EffortJointInterface</hardwareInterface>
      <mechanicalReduction>1</mechanicalReduction>
    </actuator>
  </transmission>
  <!-- Toe -->
  <link name="toe3">
    <!--            <contact>-->
    <!--                <friction_anchor/>-->
    <!--                <stiffness value="${toeStiffness}"/>-->
    <!--                <damping value="${toeDamping}"/>-->
    <!--                <spinning_friction value="${toeSpinningFriction}"/>-->
    <!--                <lateral_friction value="${toeLateralFriction}"/>-->
    <!--            </contact>-->
    <visual>
      <origin rpy="0 0 0" xyz="0 0 0"/>
      <geometry>
        <!--                     <box size="${toeRadius}*2 ${toeRadius}*2 ${toeRadius}*2"/>-->
        <sphere radius="0.001"/>
        <!--                    <sphere radius="${toeRadius}"/>-->
      </geometry>
      <material name="darkgray"/>
    </visual>
    <collision>
      <origin rpy="0 0 0" xyz="0 0 0"/>
      <geometry>
        <!--                    <box size="${toeRadius}*2 ${toeRadius}*2 ${toeRadius}*2"/>-->
        <sphere radius="0.0325"/>
      </geometry>
      <surface>
        <friction>
          <torsional>
            <coefficient>100000.0</coefficient>
            <surface_radius>100000</surface_radius>
            <use_patch_radius>false</use_patch_radius>
          </torsional>
          <ode>
            <mu>10000</mu>
            <mu2>10000</mu2>
          </ode>
        </friction>
        <contact>
          <ode>
            <kp>300000.0</kp>
            <kd>10000.0</kd>
          </ode>
        </contact>
      </surface>
    </collision>
    <inertial>
      <mass value="0.15"/>
      <inertia ixx="0.000025" ixy="0" ixz="0" iyy="0.000025" iyz="0" izz="0.000025"/>
    </inertial>
  </link>
  <gazebo reference="toe3">
    <material>Gazebo/DarkGray</material>
    <collision>
      <surface>
        <bounce>
          <restitution_coefficient>0</restitution_coefficient>
          <threshold>1e+06</threshold>
        </bounce>
        <friction>
          <torsional>
            <coefficient>1.0</coefficient>
          </torsional>
          <ode>
            <mu>500.0</mu>
            <mu2>50000.0</mu2>
          </ode>
          <bullet>
            <rolling_friction>1.0</rolling_friction>
            <friction2>50000.0</friction2>
          </bullet>
        </friction>
        <contact>
          <bullet>
            <kp>300000.0</kp>
            <kd>10000.0</kd>
          </bullet>
          <ode>
            <kp>300000.0</kp>
            <kd>10000.0</kd>
          </ode>
        </contact>
      </surface>
    </collision>
  </gazebo>
  <joint name="jtoe3" type="fixed">
    <parent link="lower3"/>
    <child link="toe3"/>
    <origin xyz="0.3407 0 -0.0"/>
    <dynamics damping="0.0" friction="0.0"/>
  </joint>
  <!-- Add ros_control plugin -->
  <gazebo>
    <plugin filename="libgazebo_ros_control.so" name="gazebo_ros_control">
      <robotNamespace>//vision60</robotNamespace>
    </plugin>
  </gazebo>
</robot>
